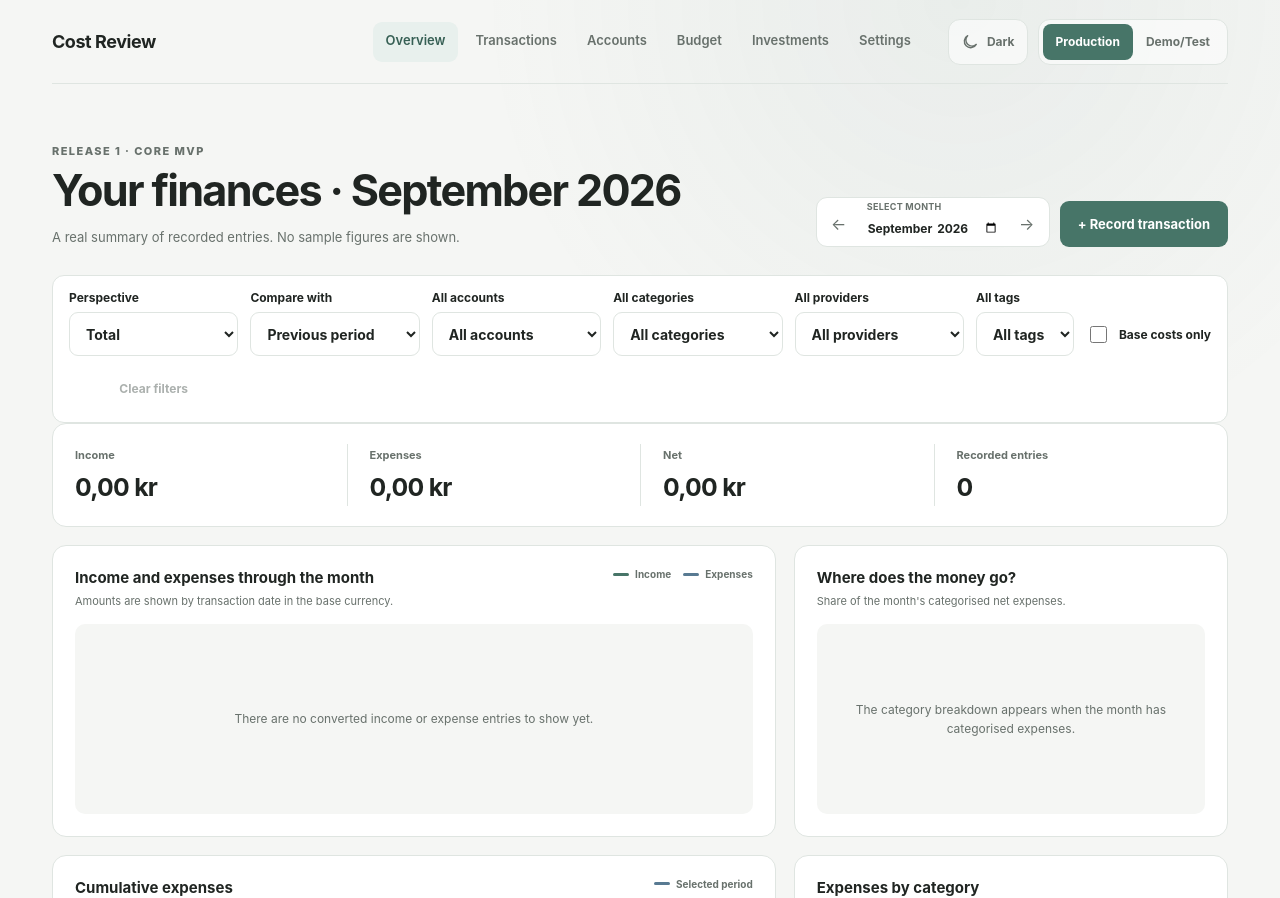
App › opens a focused transaction form when an account exists
Expected: the heading "Your finances · September 2026" is shown, x1=52 y1=167 x2=681 y2=214
Click the link "Transactions" at (516, 40), box x1=476 y1=32 x2=557 y2=48
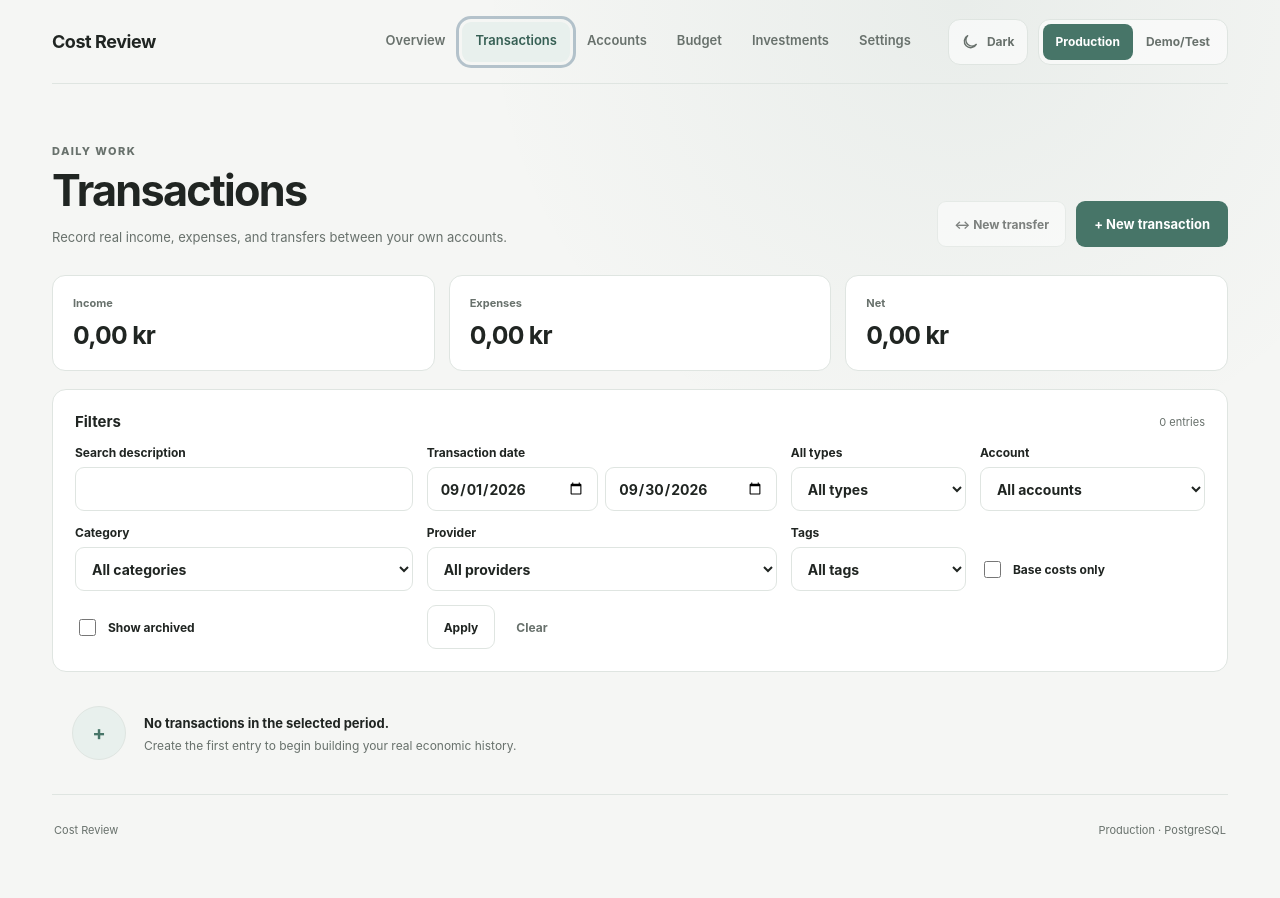
Click the button "+ New transaction" at (1152, 224), box x1=1076 y1=202 x2=1228 y2=248
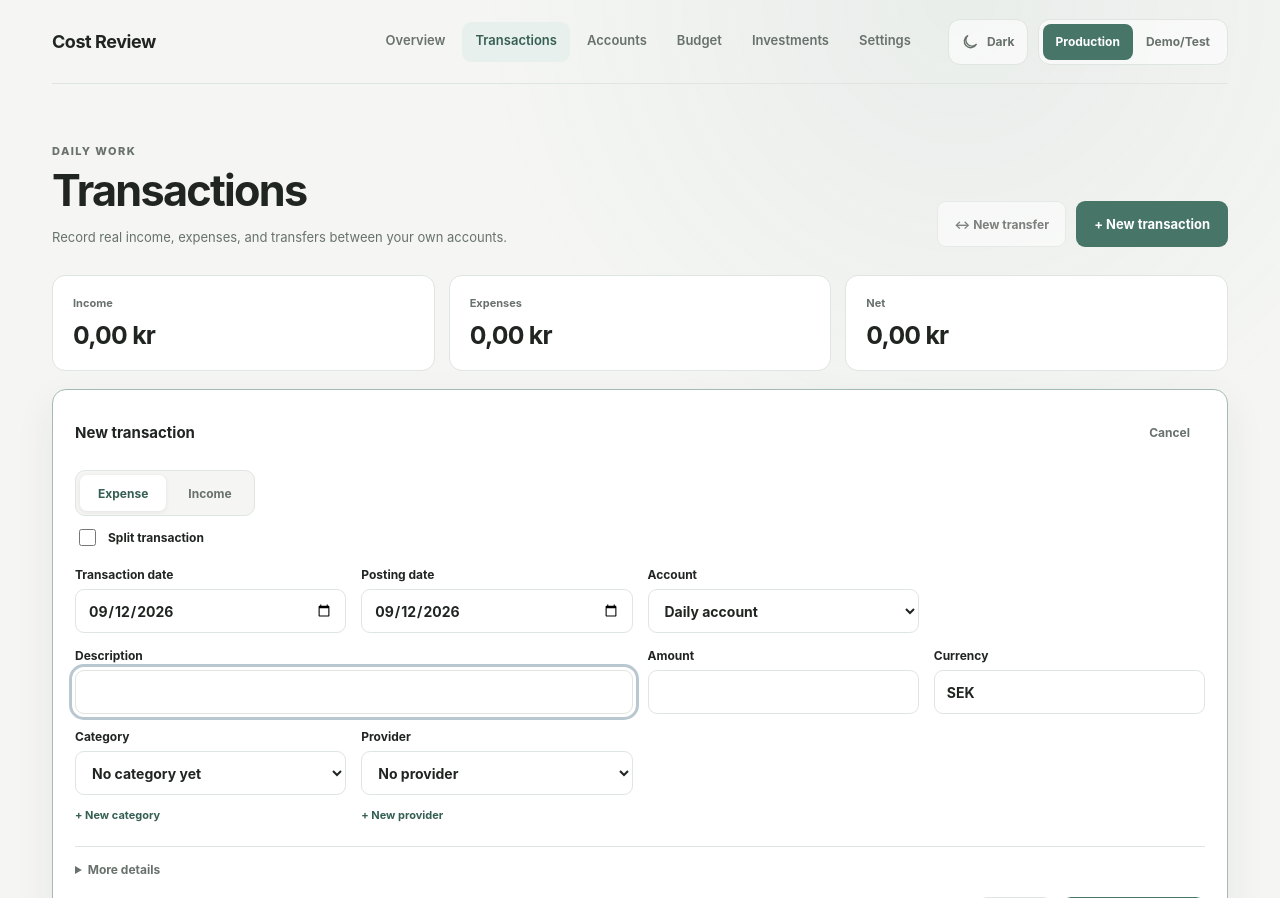
Now the heading "New transaction" is shown, box x1=75 y1=423 x2=195 y2=442
Now the dropdown labelled "Account" shows "Daily account", box x1=648 y1=590 x2=919 y2=634
Now the field labelled "Description" is shown, box x1=75 y1=670 x2=632 y2=714
